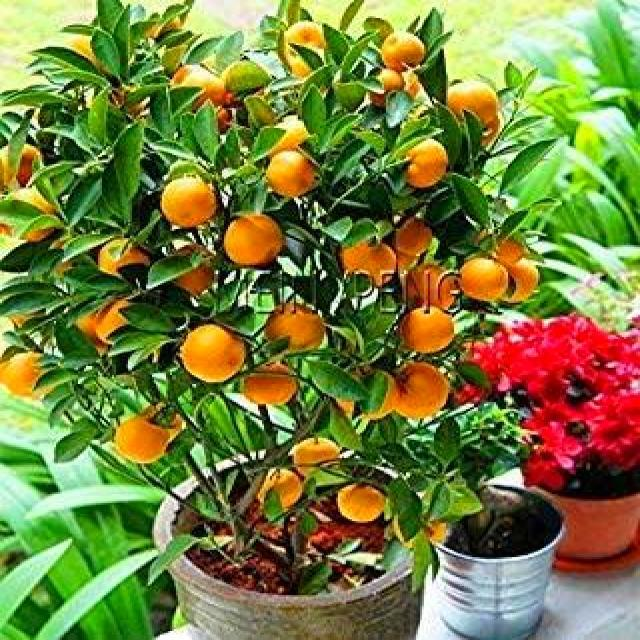Jeruk Sudah Matang: (174, 319, 254, 386), (217, 212, 293, 270), (155, 172, 227, 232), (108, 412, 176, 474), (333, 230, 403, 290), (385, 364, 459, 420), (245, 461, 313, 516), (263, 300, 327, 358), (280, 432, 348, 486), (441, 77, 503, 132), (262, 145, 324, 199), (398, 302, 460, 356), (394, 133, 448, 190), (370, 32, 434, 78), (451, 255, 511, 300), (336, 478, 390, 524)
